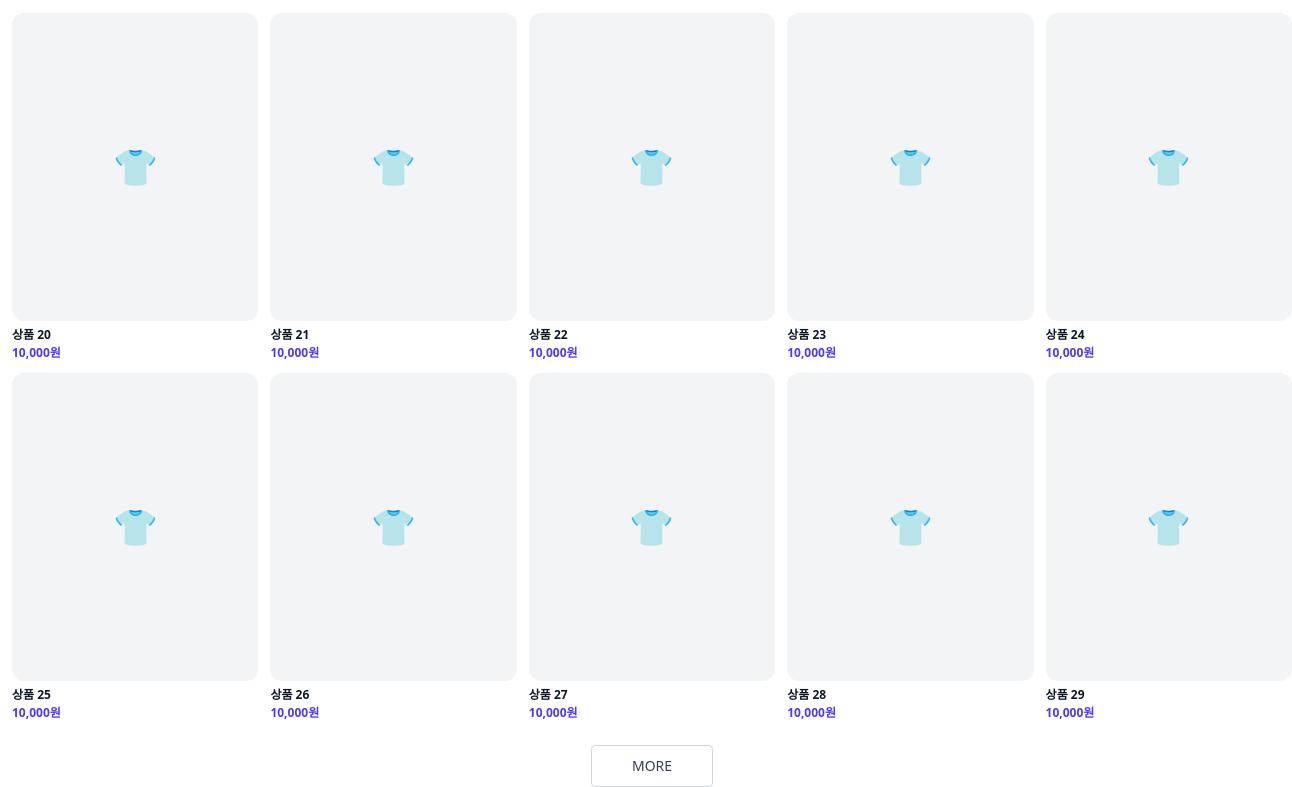
Test case: NewArrivals › 상품 31개이면 MORE 버튼이 표시되고 클릭 시 31번째 상품이 보인다
(page scrolled)
Expected: the text "상품 30" is not shown
Click the button "MORE" at (652, 766), box [591,745,713,786]
(page scrolled)
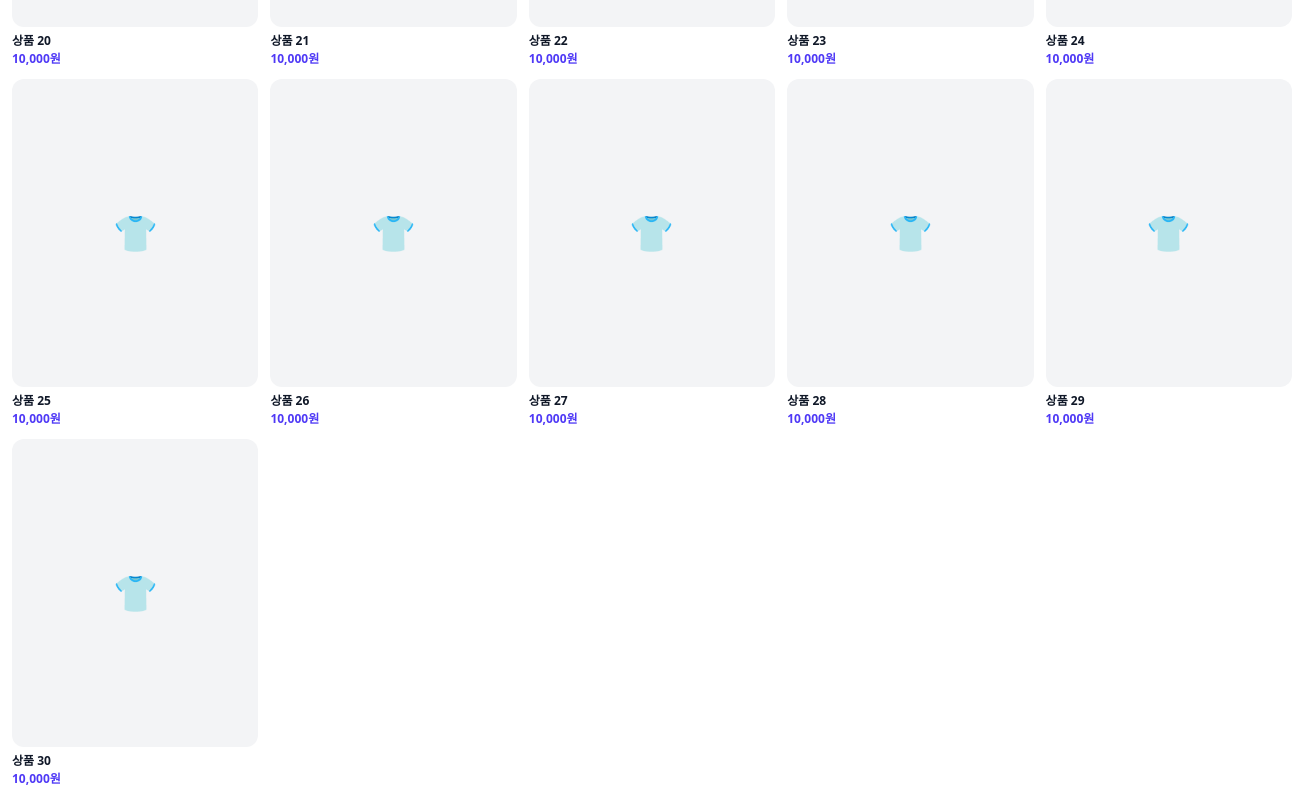
Result: the text "상품 30" is shown at [12,752,51,769]
Result: the button "MORE" is gone
